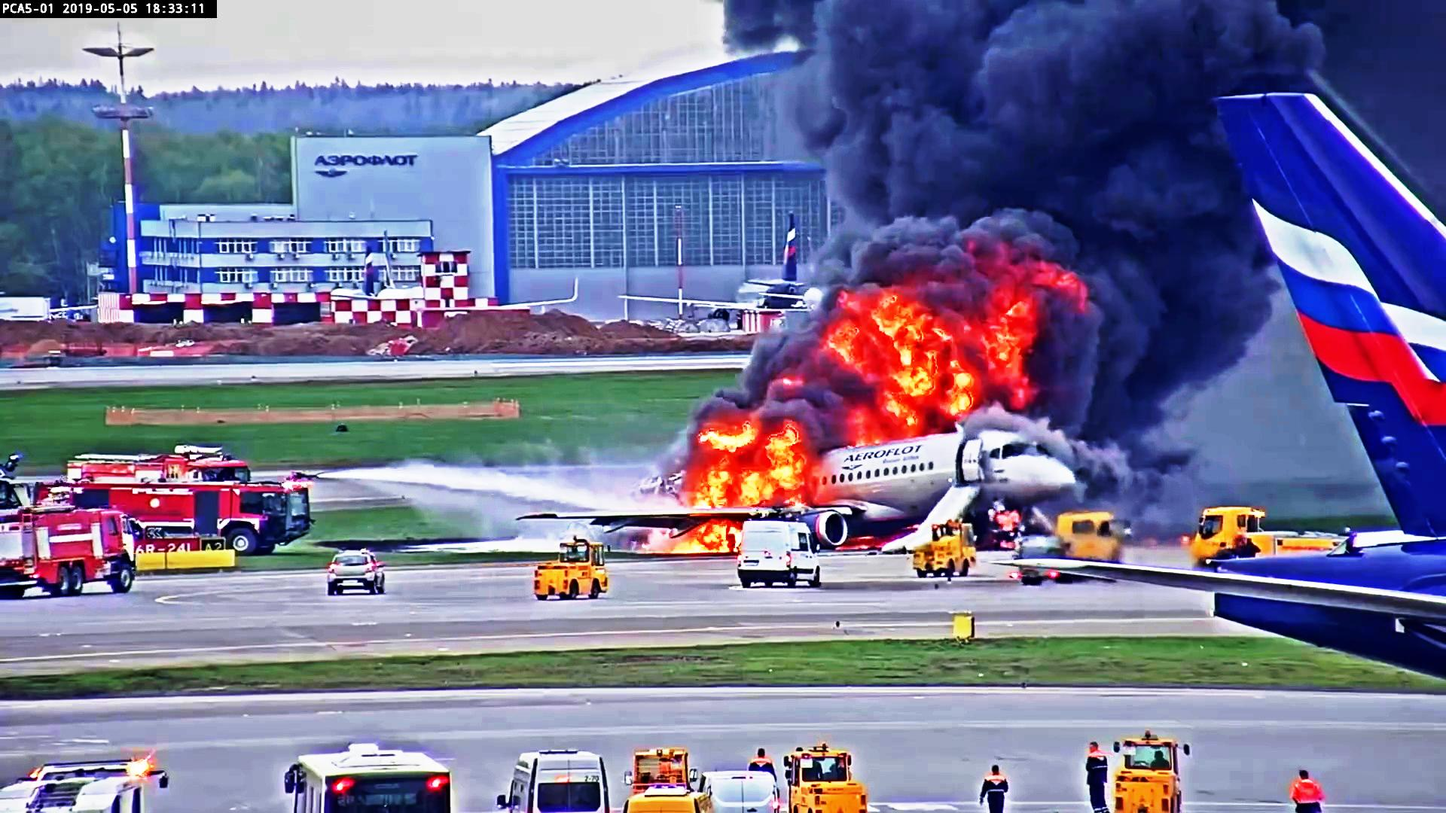fire: (697, 418, 802, 508), (870, 322, 981, 395)
smoke: (802, 0, 1212, 226), (1052, 226, 1214, 432)
